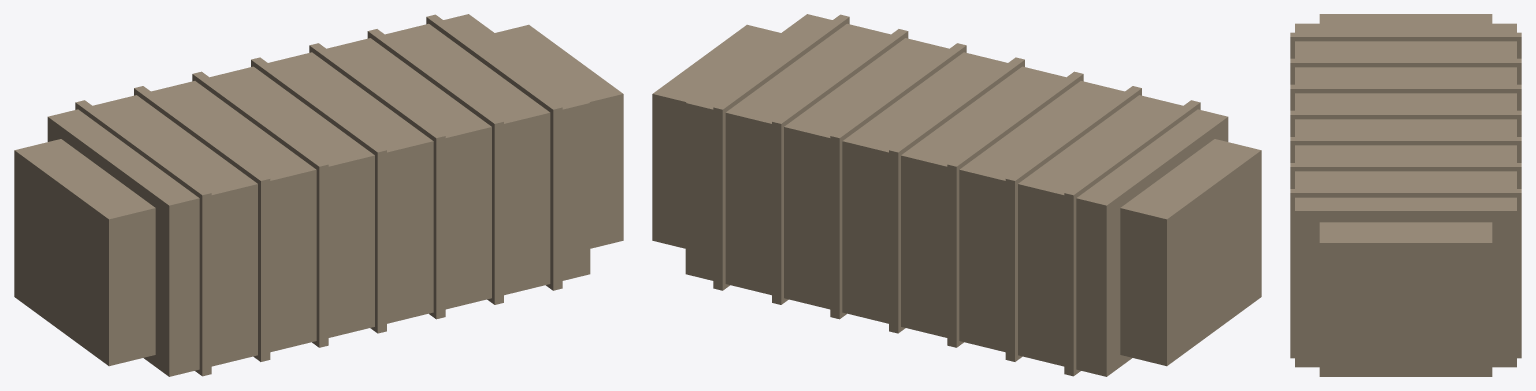
The model's file is brazed_core.glb.
3 renders of one model, left to right at view 1: azimuth 30°, elevation 25°; view 2: azimuth 150°, elevation 25°; view 3: azimuth 270°, elevation 25°, orthographic. The views are drawn at different scales.
Visible parts, largest first — view 1: Brazed_Core_brazed_stainless; view 2: Brazed_Core_brazed_stainless; view 3: Brazed_Core_brazed_stainless.
Boxes of the visible parts, <box> form: Brazed_Core_brazed_stainless: <box>14,14,623,376</box>; Brazed_Core_brazed_stainless: <box>652,14,1261,376</box>; Brazed_Core_brazed_stainless: <box>1290,14,1521,376</box>.
Size of the model in its own units: 0.22 by 0.074 by 0.094.
